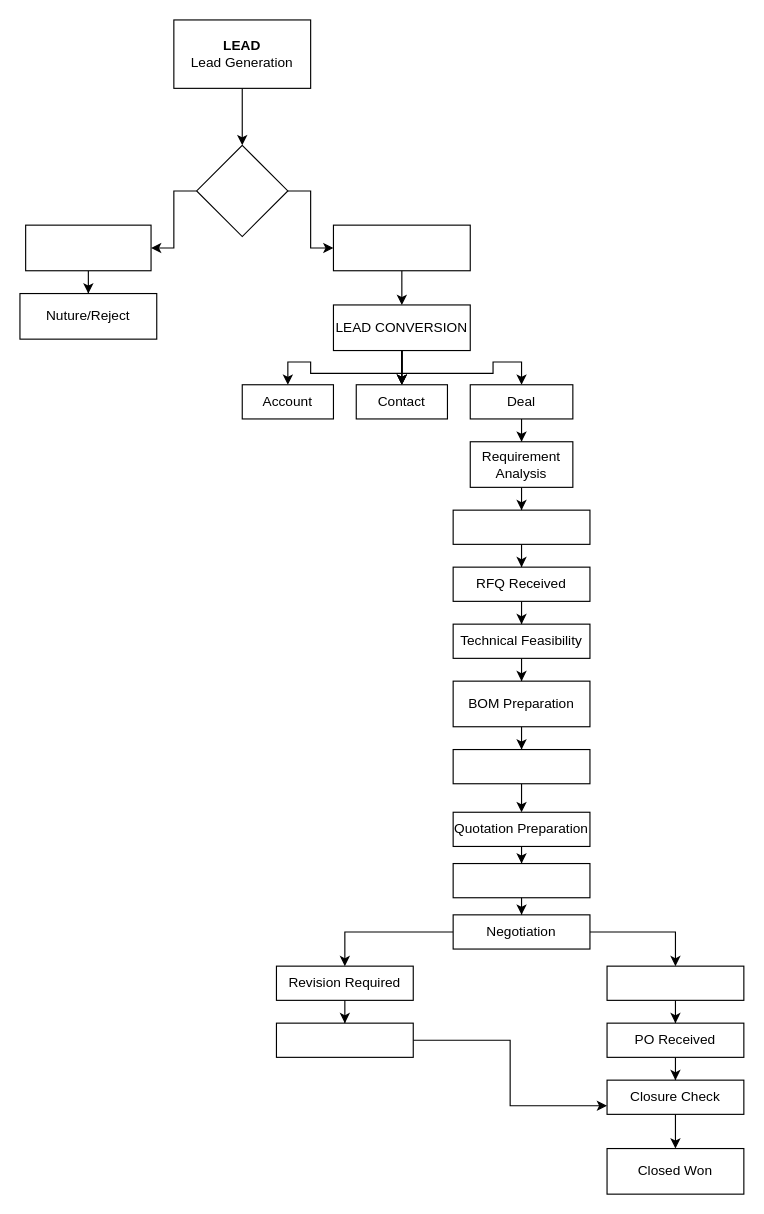
Some shapes in this 764 by 1214 pixel diagram are drawn without their labels. The box of each missing label's shape, as (x1, y1, x2, y2) in pixels:
Approval: (606, 965, 744, 1000)
BOM/Quotation Revision: (275, 1022, 413, 1057)
Lead Qualification: (196, 144, 288, 237)
NOT QUALIFIED: (25, 224, 151, 271)
Proposal Preparation: (452, 748, 590, 784)
QUALIFIED: (332, 224, 470, 271)
Quotation Sent: (452, 862, 590, 898)
Technical Discussion: (452, 509, 590, 544)
